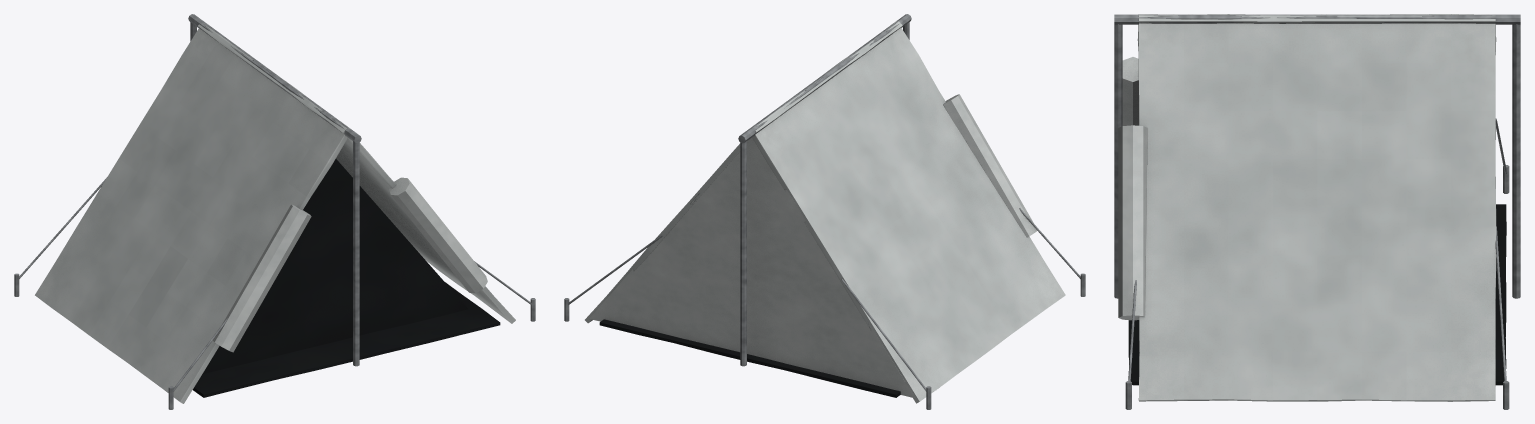
The model's file is camp_tent.glb.
3 views of the same model, side by side, from view 1: azimuth 30°, elevation 25°; view 2: azimuth 150°, elevation 25°; view 3: azimuth 270°, elevation 25° (orthographic). The views are drawn at different scales.
Parts seen in each view (by area): view 1: camp_tent; view 2: camp_tent; view 3: camp_tent.
Boxes of the visible parts, x1=… form: camp_tent: x1=14, y1=14, x2=535, y2=409; camp_tent: x1=564, y1=14, x2=1085, y2=409; camp_tent: x1=1114, y1=14, x2=1520, y2=409.
Bounding box in the file's own units: 2.47 × 1.52 × 1.94.
Materials: 3 (3 with a texture image).
